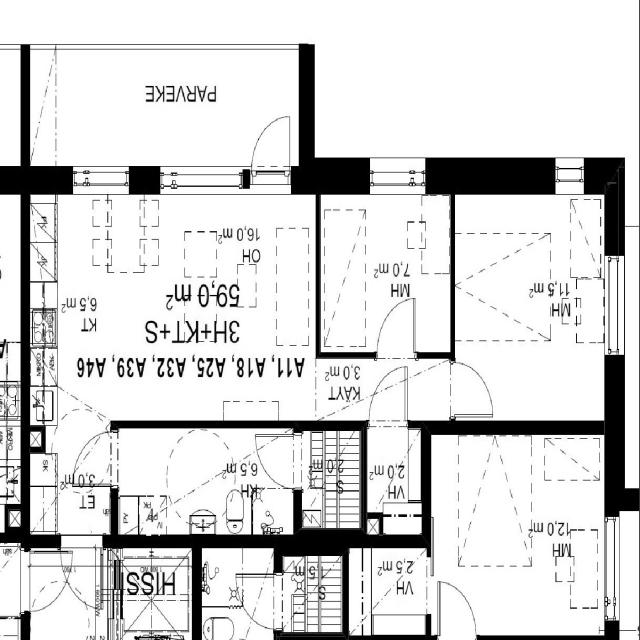door: (44, 184, 318, 423), (370, 291, 420, 364), (445, 354, 496, 419), (246, 108, 294, 175), (432, 576, 482, 638), (22, 549, 68, 615), (365, 374, 414, 432), (64, 543, 101, 610), (0, 546, 27, 617)
window: (599, 248, 629, 367), (600, 507, 626, 625), (159, 161, 248, 192), (364, 154, 431, 194), (66, 160, 138, 194), (546, 146, 594, 195), (420, 553, 435, 622)
zone: (428, 429, 610, 639), (454, 189, 610, 424), (316, 188, 452, 358), (113, 426, 301, 538), (199, 545, 281, 640), (348, 544, 430, 638), (115, 541, 194, 637), (298, 424, 363, 530), (366, 422, 424, 532), (1, 186, 24, 390), (0, 377, 21, 513), (72, 426, 118, 488)
